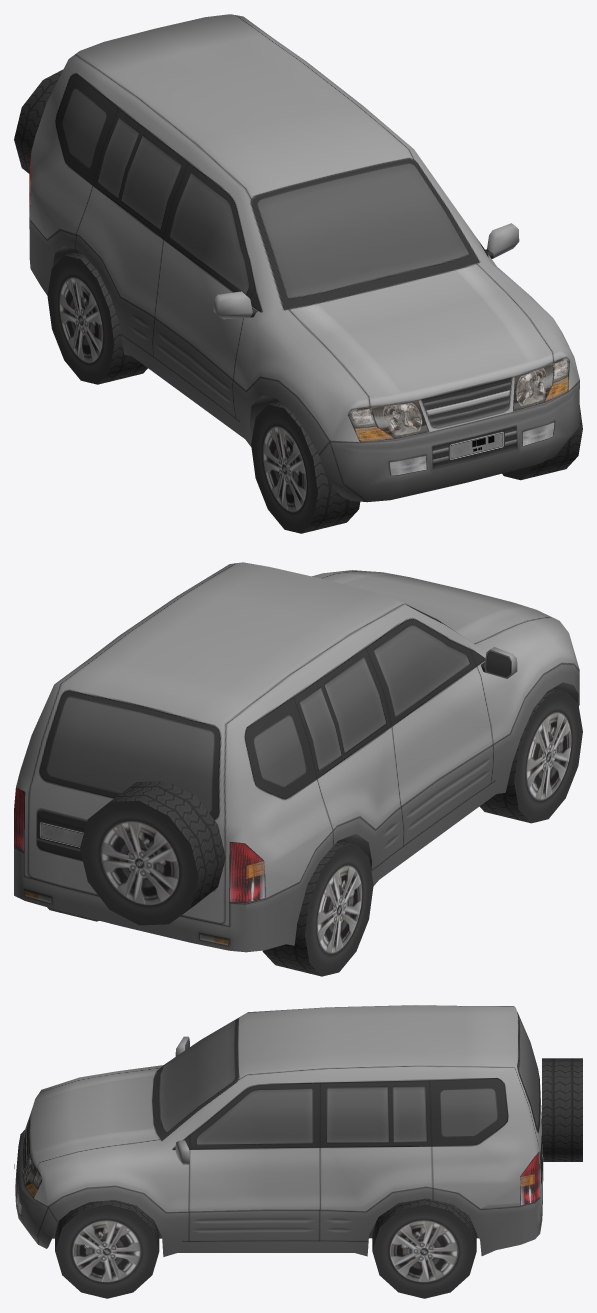
The model's file is SUV-D.fbx.
The picture shows the model from 3 angles, top to bottom: view 1: azimuth 30°, elevation 25°; view 2: azimuth 150°, elevation 25°; view 3: azimuth 270°, elevation 25°; orthographic projection. The views are drawn at different scales.
Parts seen in each view (by area): view 1: body, FR, RR, headLight, FL; view 2: body, RR, FR, brake; view 3: body, RL, FL, brake, headLight.
Part boxes in pixels (bbox=[...]): body: bbox=[14, 14, 579, 502]; FR: bbox=[251, 401, 360, 533]; RR: bbox=[47, 251, 147, 384]; headLight: bbox=[348, 359, 569, 475]; FL: bbox=[502, 405, 582, 480]; body: bbox=[14, 562, 579, 952]; RR: bbox=[262, 840, 373, 976]; FR: bbox=[479, 687, 582, 823]; brake: bbox=[14, 787, 265, 903]; body: bbox=[15, 1005, 582, 1256]; RL: bbox=[372, 1198, 476, 1298]; FL: bbox=[55, 1200, 159, 1298]; brake: bbox=[520, 1152, 539, 1205]; headLight: bbox=[17, 1110, 41, 1215].
Bounding box in the file's own units: 232 × 204 × 487.
